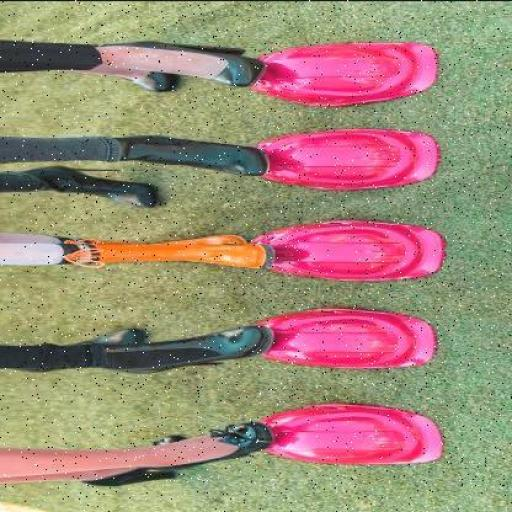safety_shoe: (91, 322, 271, 370), (91, 233, 275, 269), (101, 136, 276, 161)
